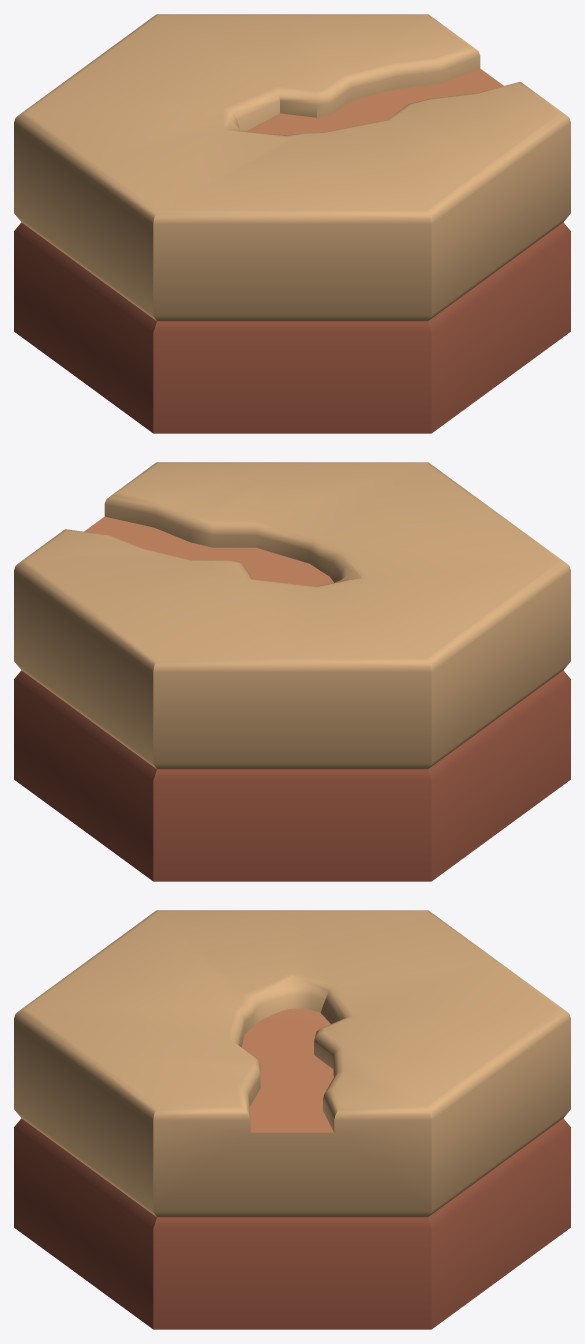
File: hex_sand_roadA_detail.glb
3 views of the same model, one above another, from view 1: azimuth 30°, elevation 25°; view 2: azimuth 150°, elevation 25°; view 3: azimuth 270°, elevation 25° (orthographic).
Parts seen in each view (by area): view 1: hex_sand_roadA_detail; view 2: hex_sand_roadA_detail; view 3: hex_sand_roadA_detail.
Boxes of the visible parts, x1=… form: hex_sand_roadA_detail: x1=14, y1=14, x2=570, y2=433; hex_sand_roadA_detail: x1=14, y1=462, x2=570, y2=881; hex_sand_roadA_detail: x1=14, y1=910, x2=570, y2=1329.
Size of the model in its own units: 2.4 by 1.2 by 2.77.
